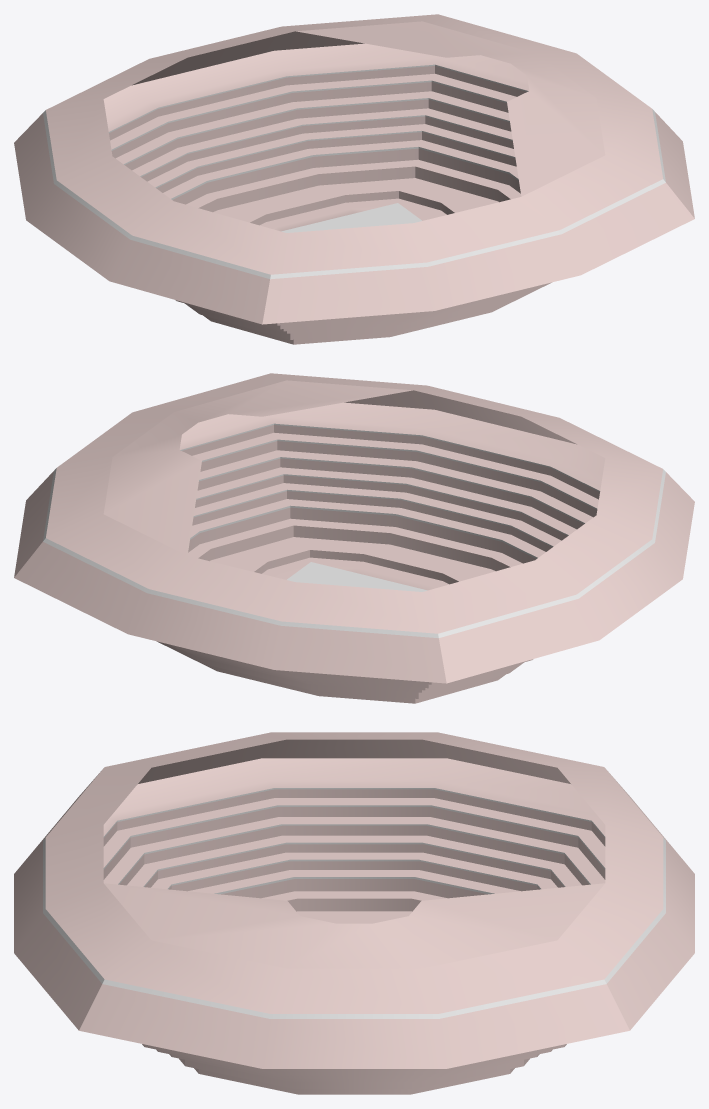
Rendered from stadium2.fbx.
3 views of the same model, one above another, from view 1: azimuth 30°, elevation 25°; view 2: azimuth 150°, elevation 25°; view 3: azimuth 270°, elevation 25° (orthographic). The views are drawn at different scales.
Visible parts, largest first — view 1: Cube; view 2: Cube; view 3: Cube.
Part boxes in pixels (box(x1,y1,x2,y2)): Cube: box(14, 14, 694, 344); Cube: box(14, 373, 694, 703); Cube: box(14, 732, 694, 1094).
Bounding box in the file's own units: 371 × 93.8 × 344.
